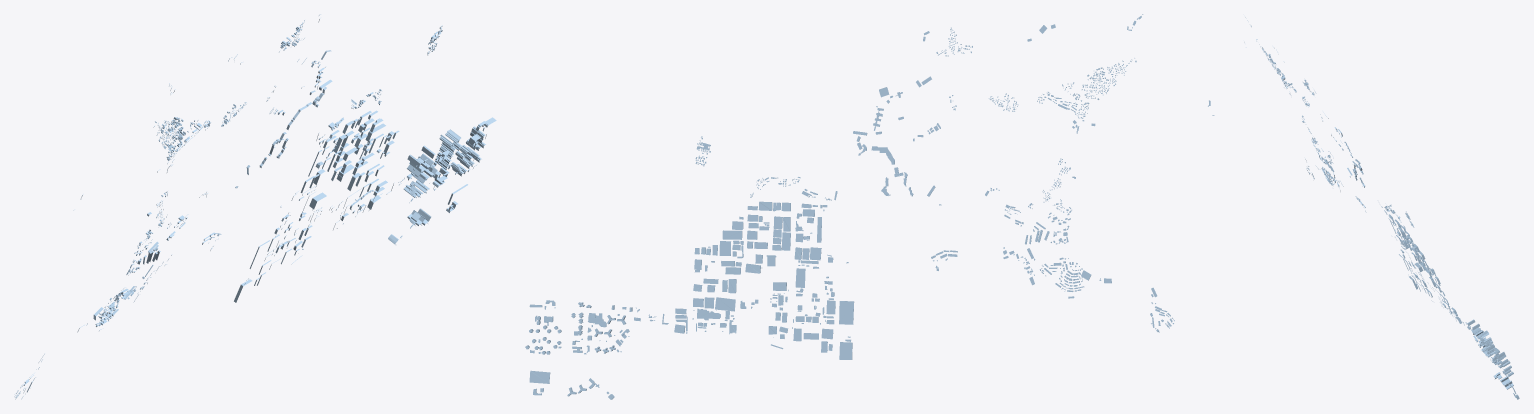
3 views of the same model, side by side, from view 1: azimuth 30°, elevation 25°; view 2: azimuth 150°, elevation 25°; view 3: azimuth 270°, elevation 25° (orthographic). The views are drawn at different scales.
Parts seen in each view (by area): view 1: geometry_0; view 2: geometry_0; view 3: geometry_0.
Boxes of the visible parts, bbox=[...] form: geometry_0: bbox=[14, 14, 496, 399]; geometry_0: bbox=[525, 14, 1214, 399]; geometry_0: bbox=[1244, 17, 1519, 399].
Size of the model in its own units: 4305 by 2759 by 2847.
